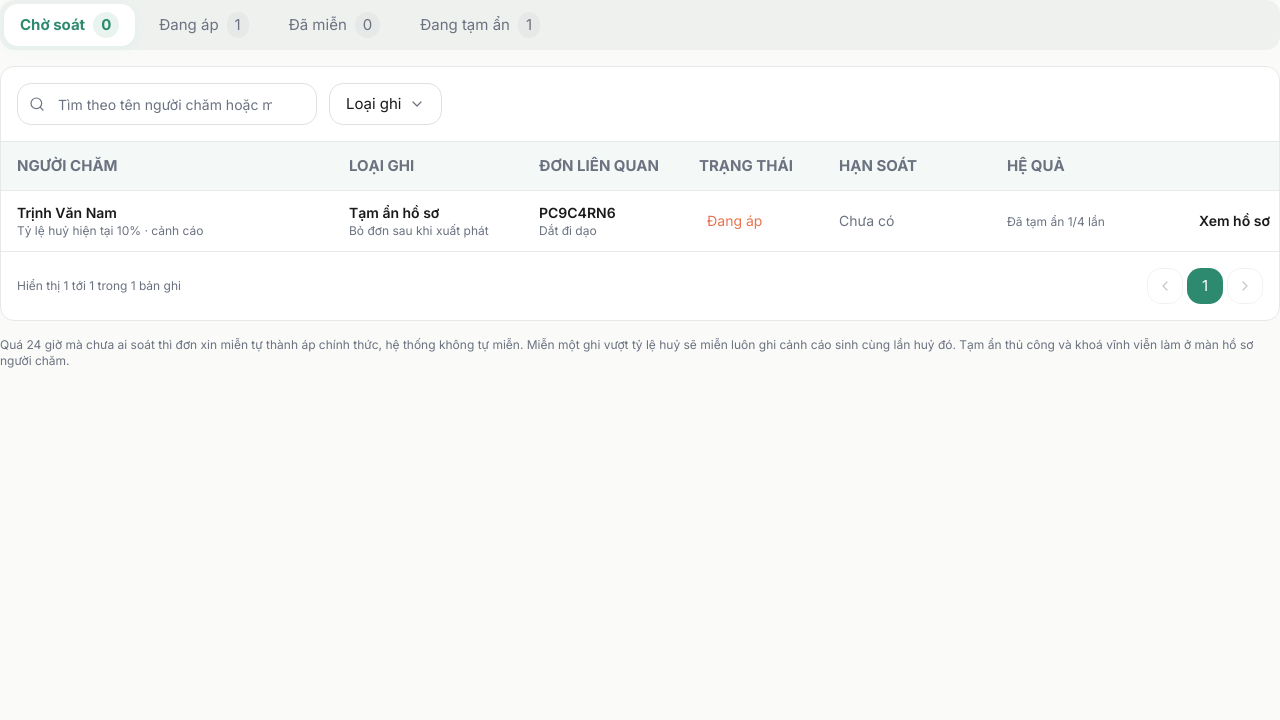
Scenario: Bảng kỷ luật người chăm › bộ lọc loại ghi phủ đủ ba giá trị enum của máy chủ
Click the button "Loại ghi" at {"x": 386, "y": 104}, box top-left (329, 83), bottom-right (442, 125)
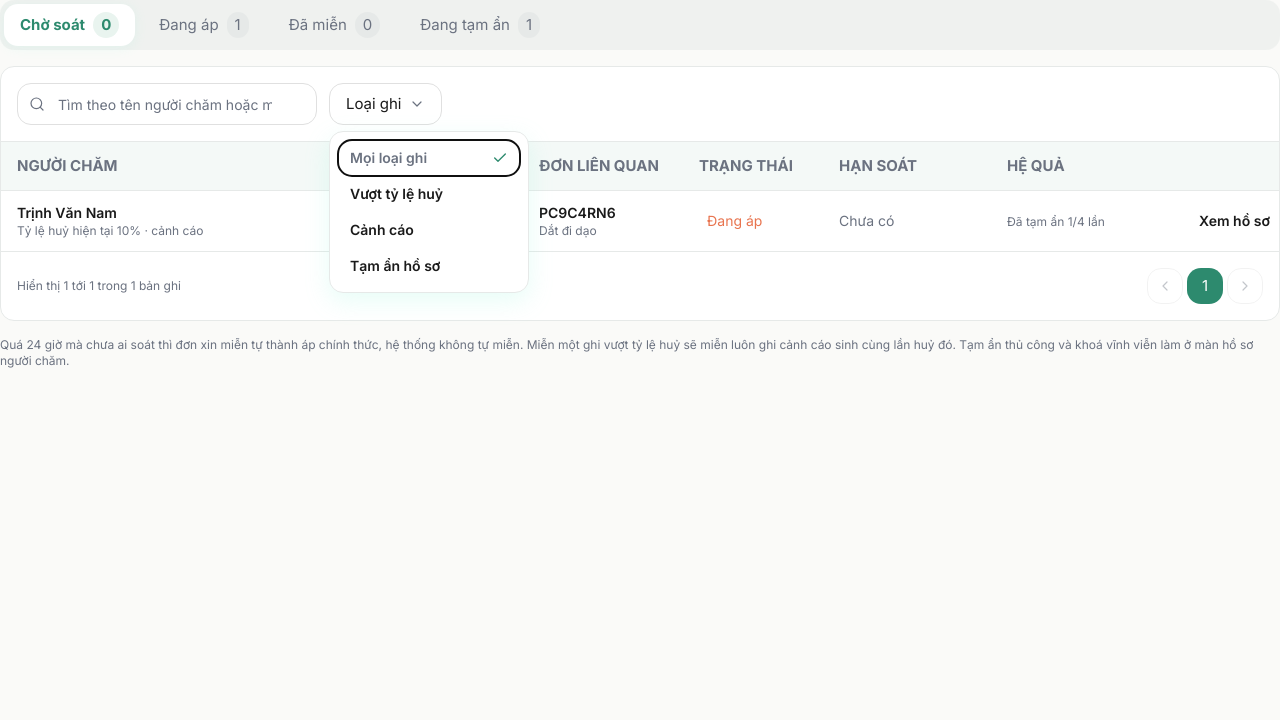
Expected: the button "Vượt tỷ lệ huỷ" is shown, top-left (338, 176), bottom-right (520, 212)
Expected: the button "Cảnh cáo" is shown, top-left (338, 212), bottom-right (520, 248)
Expected: the button "Tạm ẩn hồ sơ" is shown, top-left (338, 248), bottom-right (520, 284)
